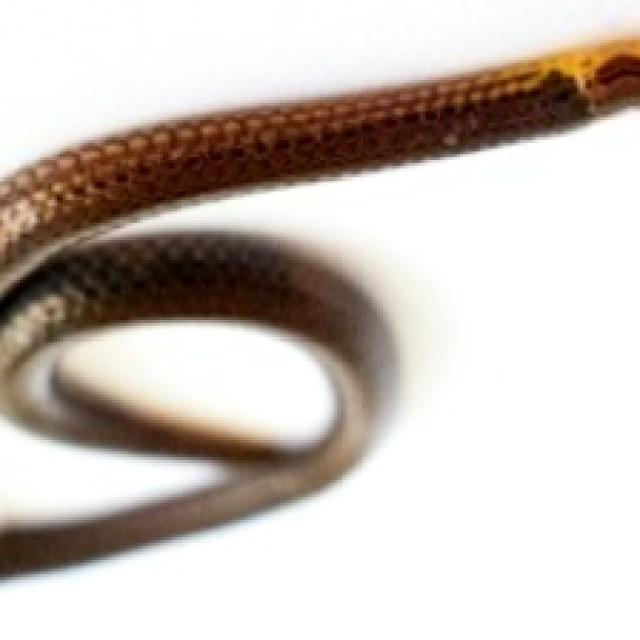gervais worm snake: (0, 39, 640, 574)
